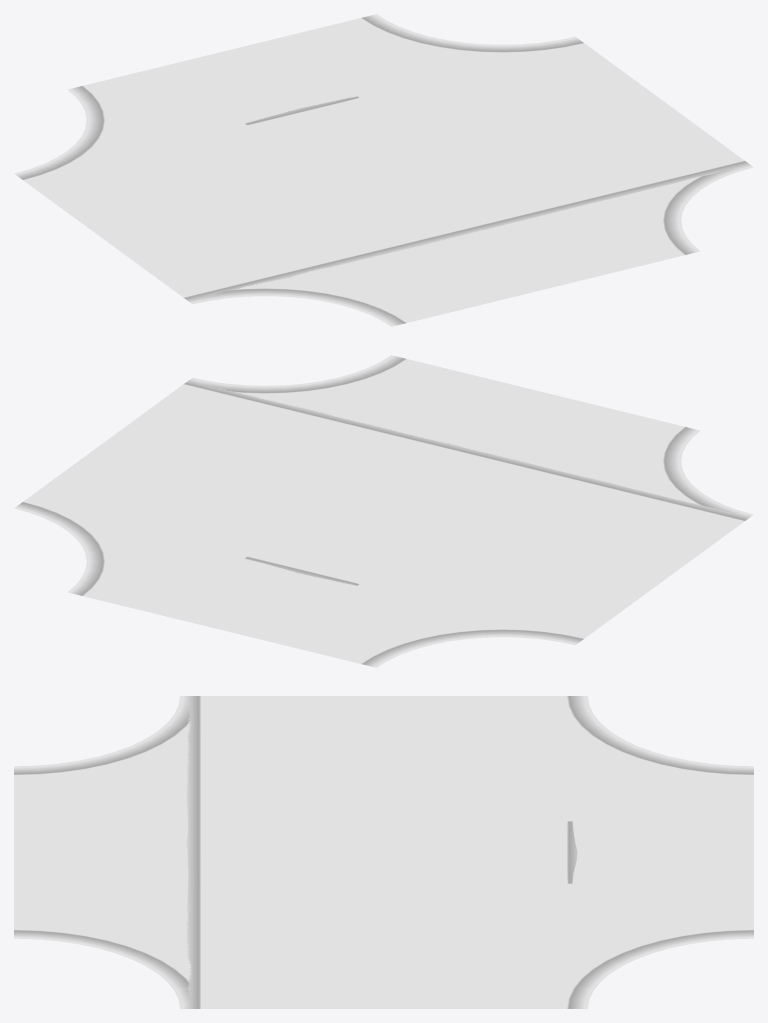
File: Road_Cross_New.fbx
3 renders of one model, top to bottom at view 1: azimuth 30°, elevation 25°; view 2: azimuth 150°, elevation 25°; view 3: azimuth 270°, elevation 25°, orthographic. The views are drawn at different scales.
Visible parts, largest first — view 1: Road_Cross_1, Road_Cross_2, Road_Cross_3; view 2: Road_Cross_1, Road_Cross_2, Road_Cross_3; view 3: Road_Cross_1, Road_Cross_2, Road_Cross_3.
Part boxes in pixels (x1,y1,x2,y2): Road_Cross_1: (14, 14, 749, 326); Road_Cross_2: (25, 45, 753, 304); Road_Cross_3: (115, 96, 636, 236); Road_Cross_1: (14, 355, 749, 667); Road_Cross_2: (25, 377, 753, 637); Road_Cross_3: (117, 446, 656, 585); Road_Cross_1: (14, 696, 753, 1008); Road_Cross_2: (180, 696, 566, 1008); Road_Cross_3: (165, 700, 577, 1002).
Bounding box in the file's own units: 200 × 7.5e-05 × 200.
1 material, 1 textured.
